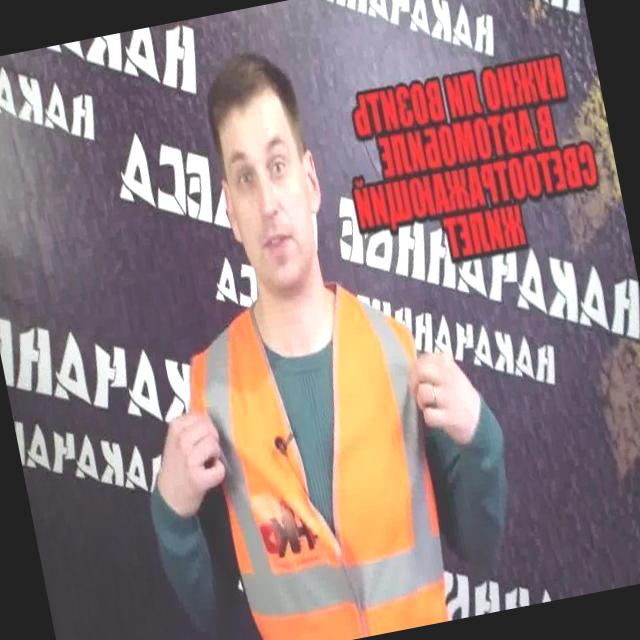vest: (182, 289, 473, 640)
